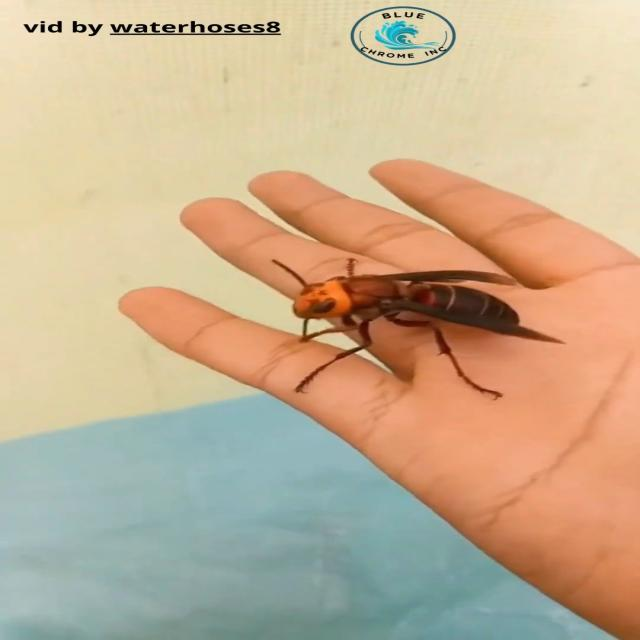Hornets: (268, 258, 569, 399)
